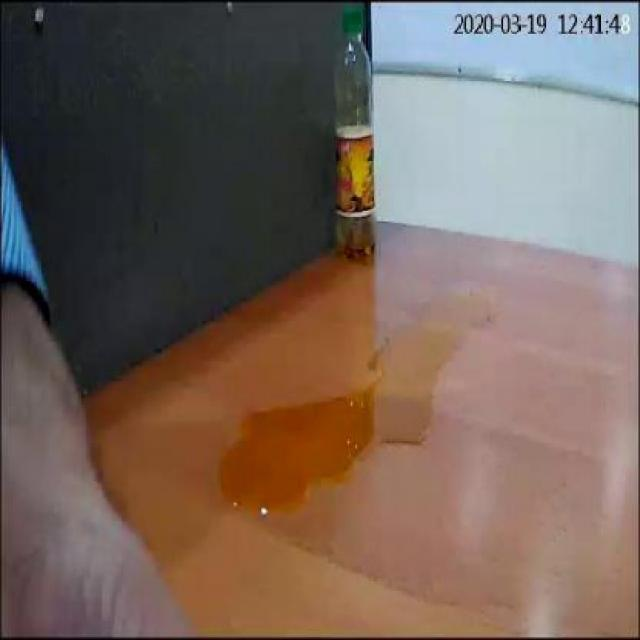spill: (219, 292, 487, 511)
